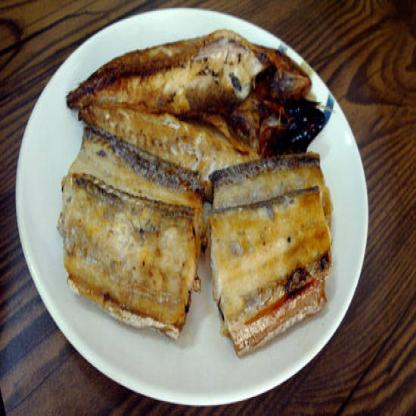Peixe: (62, 13, 350, 355)
